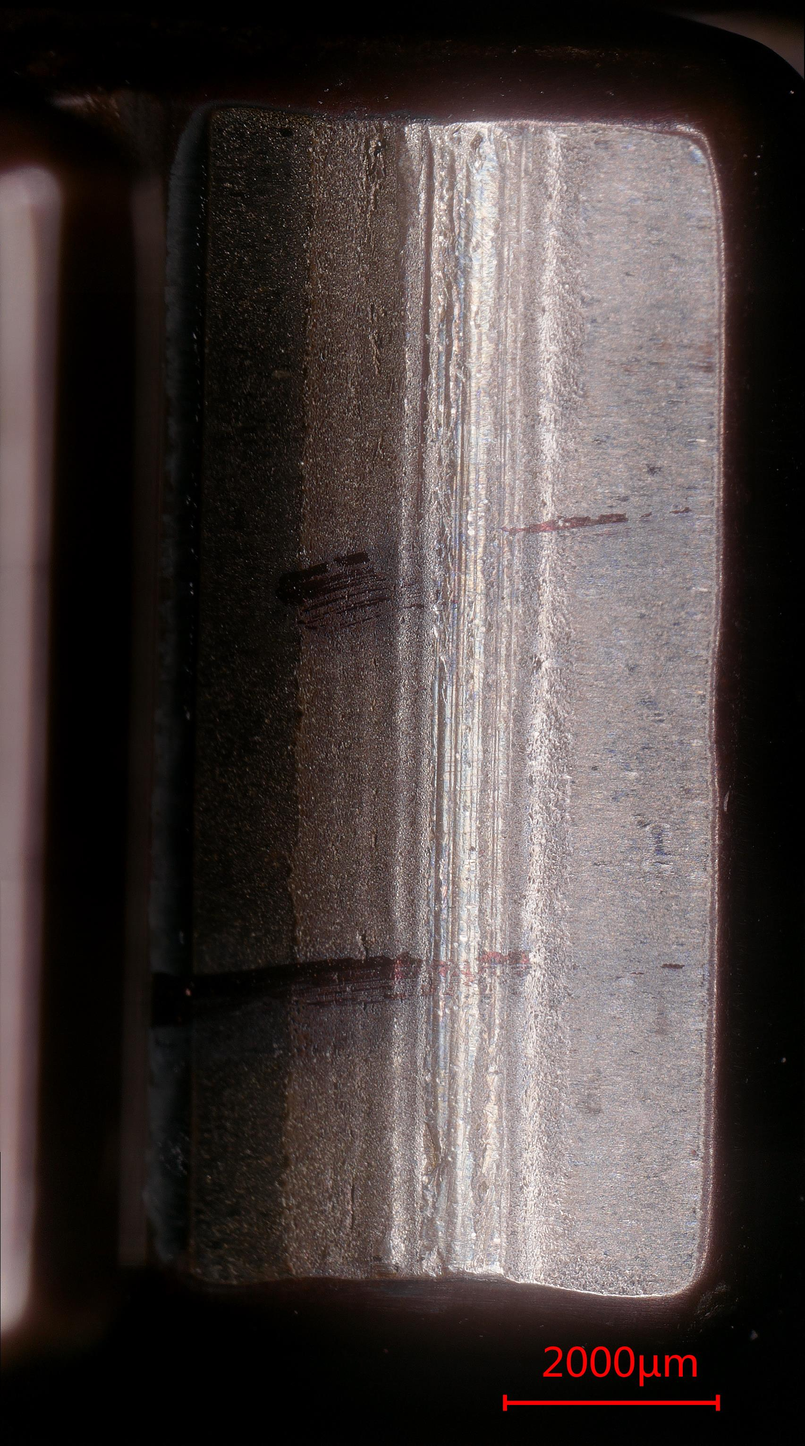Abrasion: (177, 129, 713, 1289)
